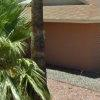Palm tree: (5, 5, 49, 99)
